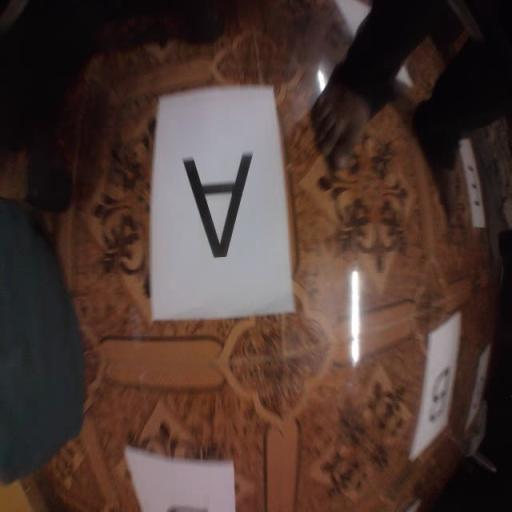A: (182, 152, 254, 257)
B: (430, 367, 450, 422)
